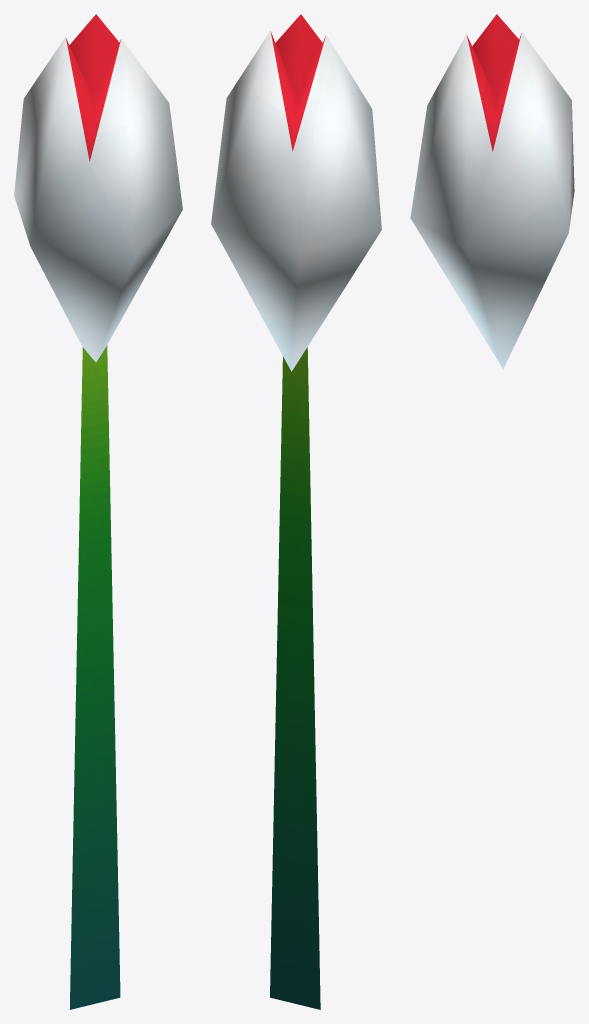
Rendered from Flower_1D.fbx.
3 renders of one model, left to right at view 1: azimuth 30°, elevation 25°; view 2: azimuth 150°, elevation 25°; view 3: azimuth 270°, elevation 25°, orthographic.
Parts seen in each view (by area): view 1: Flower_1D; view 2: Flower_1D; view 3: Flower_1D.
Boxes of the visible parts, x1,y1,x2,y2 form: Flower_1D: [14, 14, 182, 1009]; Flower_1D: [211, 14, 381, 1009]; Flower_1D: [410, 14, 574, 368].
Bounding box in the file's own units: 0.1119 × 0.7075 × 0.1083.
